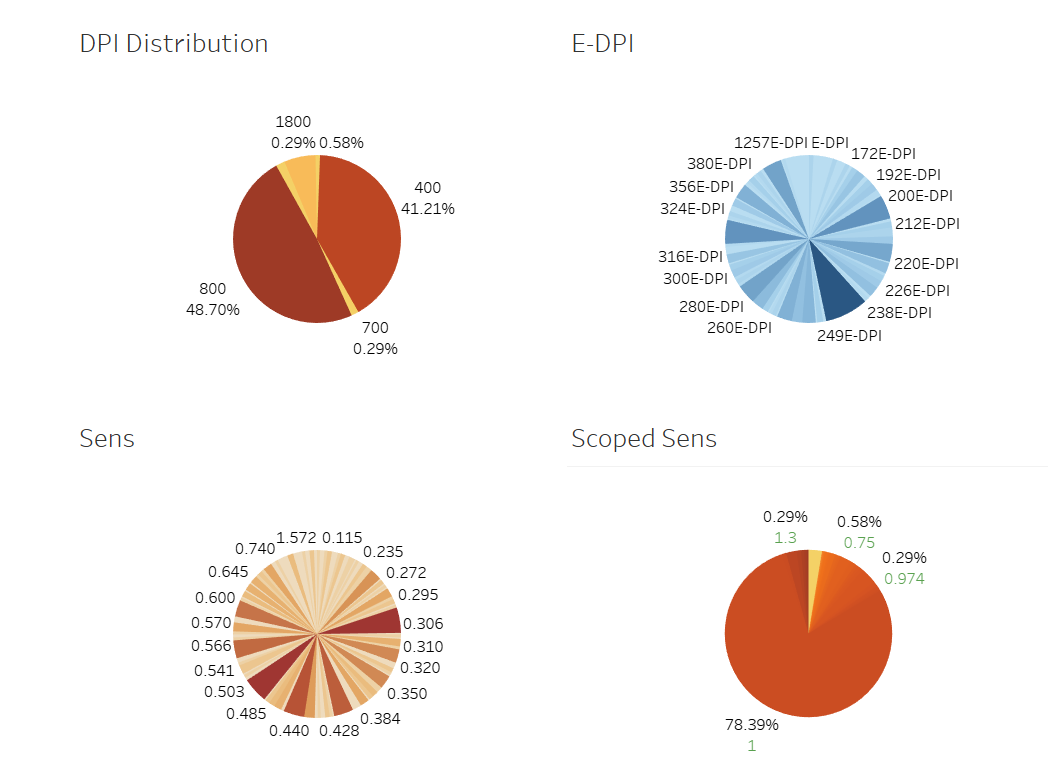

The page's visual inventory and layout, read from the dashboard file:
{"tool":"tableau","page":{"name":"In-game settings","canvas":[1000,1000],"units":"permille","ordinal":1},"visuals":[{"type":"worksheet","title":"DPI","mark":"Pie","box":[5.5,9.3,494.4,490.7]},{"type":"worksheet","title":"E-DPI","mark":"Pie","box":[500,9.3,494.5,490.7]},{"type":"worksheet","title":"Sens","mark":"Pie","box":[5.5,500,494.4,490.7]},{"type":"worksheet","title":"Scoped Sens","mark":"Pie","box":[500,500,494.5,490.7]}]}

Visuals, with their boxes on the dashboard's canvas, which has no fixed pixel size, in thousandths of its width and height (x1, y1, x2, y2). These are canvas units, not pixel positions in the 1048x782 screenshot, which may show the page scaled, cropped or inside an application window:
"DPI" worksheet (Pie marks): (6,9,500,500)
"E-DPI" worksheet (Pie marks): (500,9,994,500)
"Sens" worksheet (Pie marks): (6,500,500,991)
"Scoped Sens" worksheet (Pie marks): (500,500,994,991)
